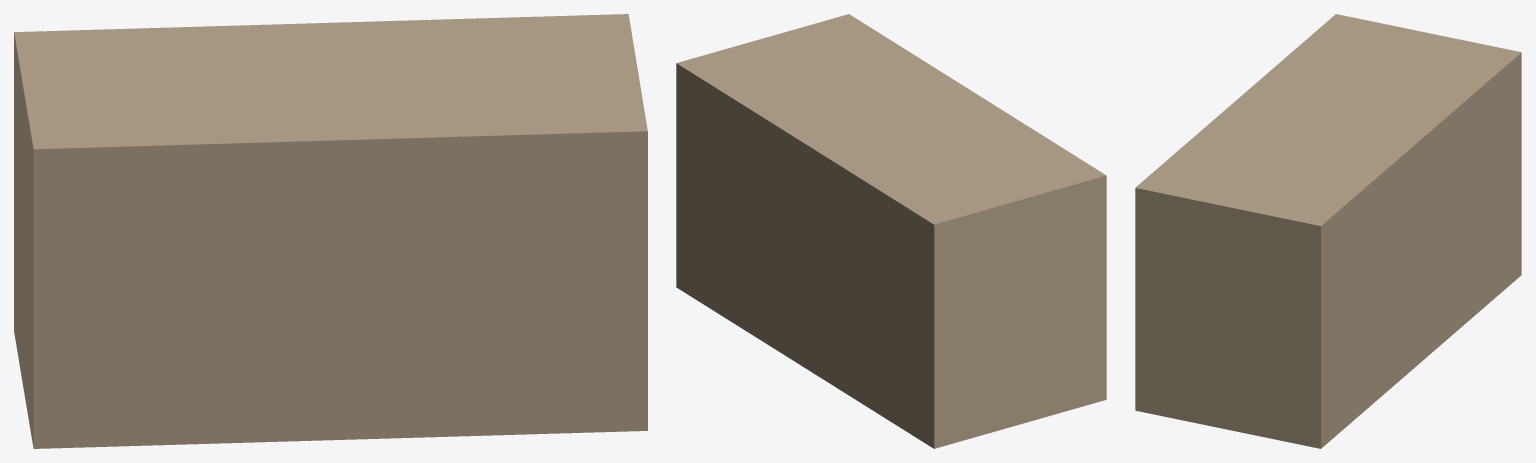
File: bld_55879860.dae
3 renders of one model, left to right at view 1: azimuth 30°, elevation 25°; view 2: azimuth 150°, elevation 25°; view 3: azimuth 270°, elevation 25°, orthographic. The views are drawn at different scales.
Parts seen in each view (by area): view 1: bld_55879860; view 2: bld_55879860; view 3: bld_55879860.
Part boxes in pixels (bbox=[...]): bld_55879860: bbox=[14, 14, 647, 448]; bld_55879860: bbox=[676, 14, 1106, 448]; bld_55879860: bbox=[1135, 14, 1521, 448].
Size of the model in its own units: 16.34 by 12.58 by 8.
